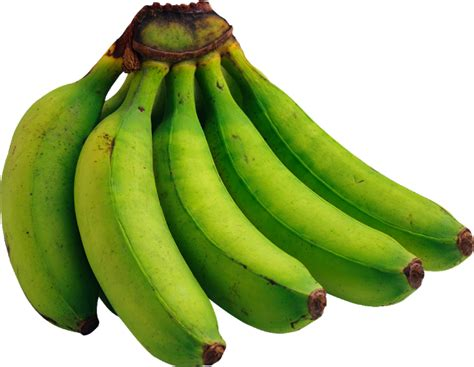banana: (206, 83, 425, 307), (241, 68, 474, 273), (151, 97, 330, 335), (72, 98, 226, 367), (1, 75, 102, 342)
